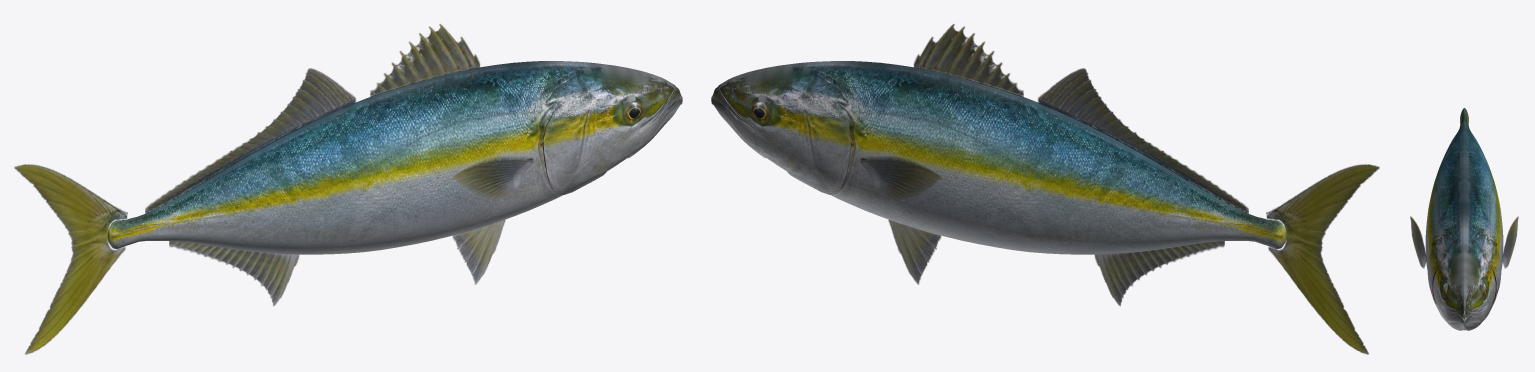
Rendered from buri.glb.
The picture shows the model from 3 angles, left to right: view 1: azimuth 30°, elevation 25°; view 2: azimuth 150°, elevation 25°; view 3: azimuth 270°, elevation 25°; orthographic projection. The views are drawn at different scales.
Visible parts, largest first — view 1: buri; view 2: buri; view 3: buri.
Boxes of the visible parts, bbox=[...] form: buri: bbox=[14, 24, 682, 354]; buri: bbox=[711, 24, 1379, 354]; buri: bbox=[1410, 108, 1518, 330].
Size of the model in its own units: 0.8023 by 0.3092 by 0.1601.
Materials: 1 (1 with a texture image).
